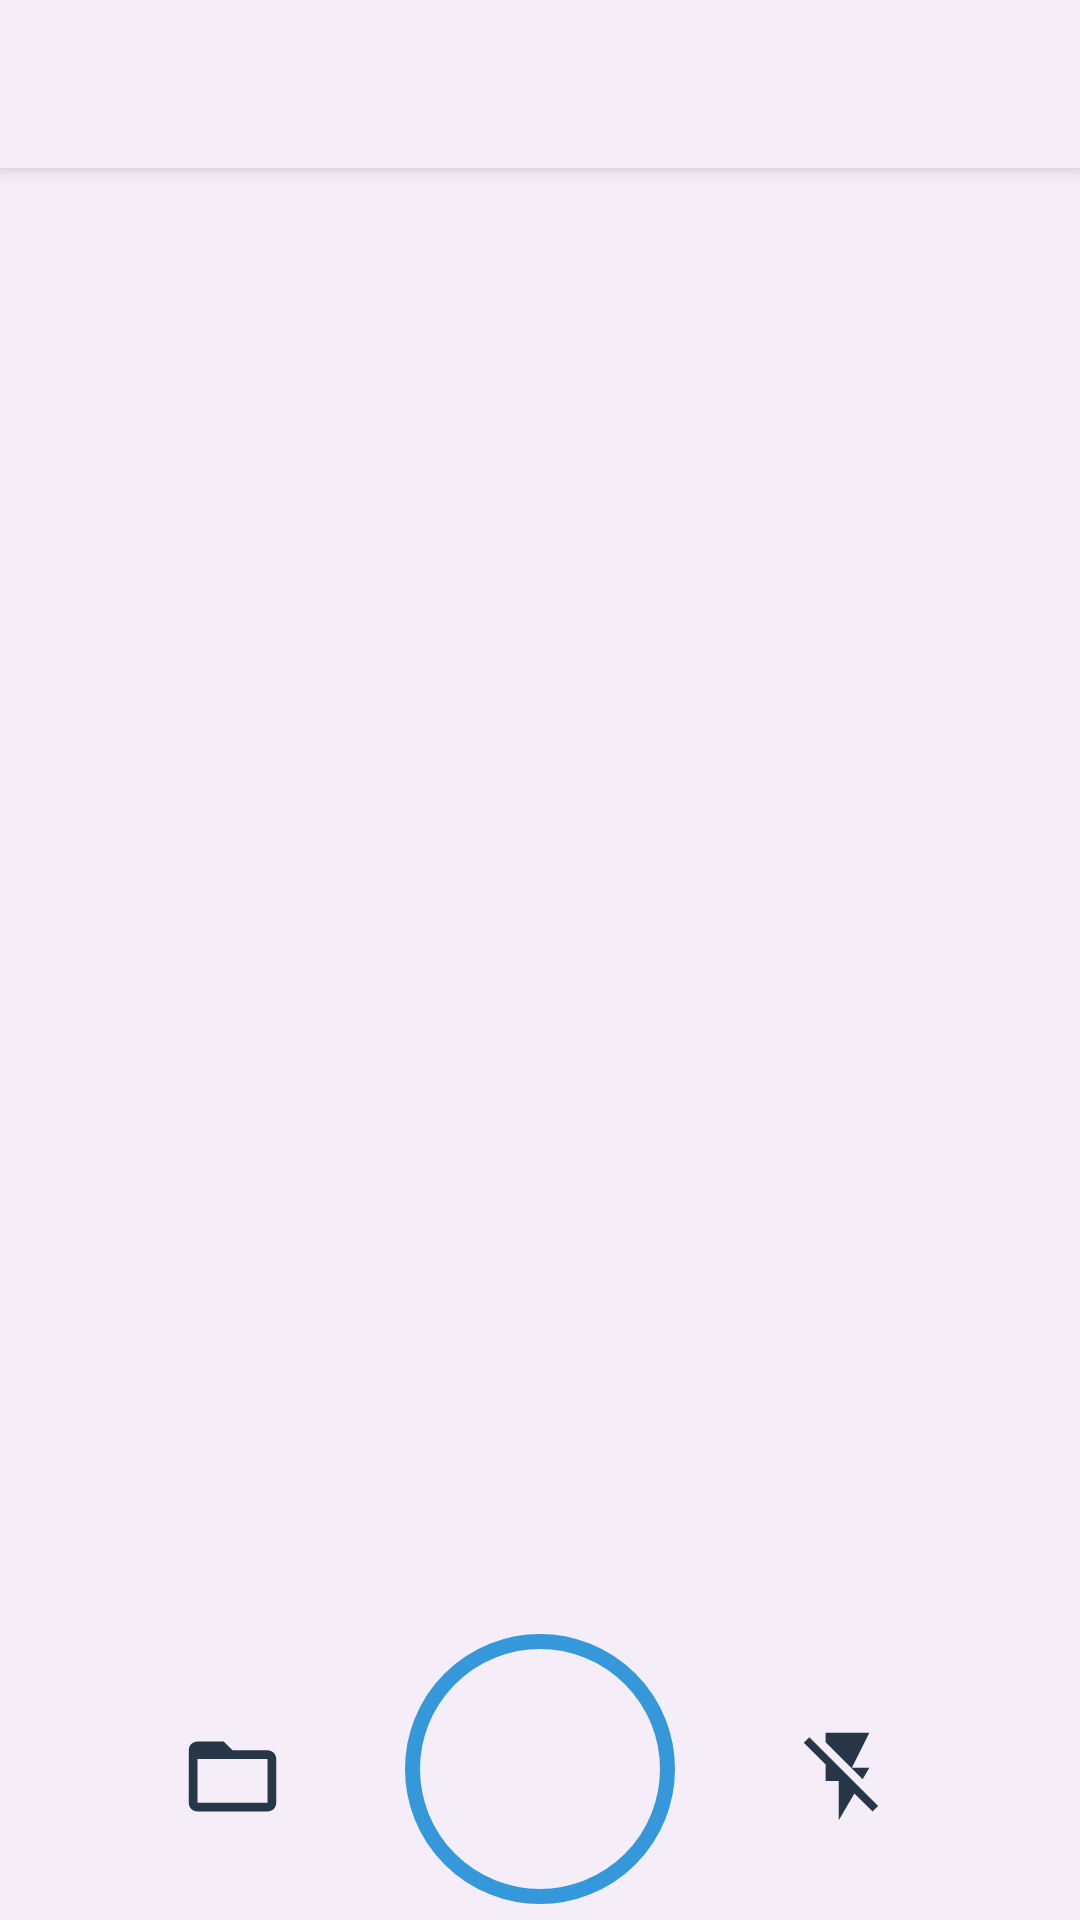

Where icons sit on this 1080 x 1920 app screen, as (x1, y1, x2, y2):
file: (188, 1741, 277, 1812)
flash off: (804, 1732, 878, 1820)
